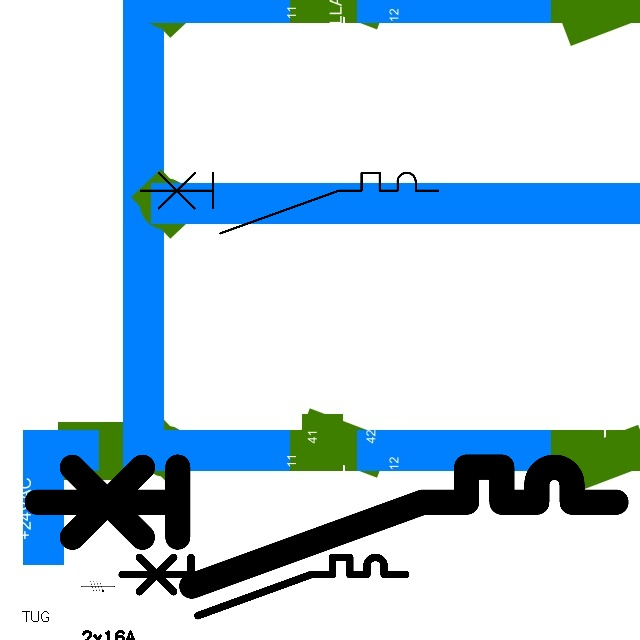interruptor_termomagnetico: (22, 452, 631, 601), (133, 165, 446, 241), (114, 550, 412, 623)
